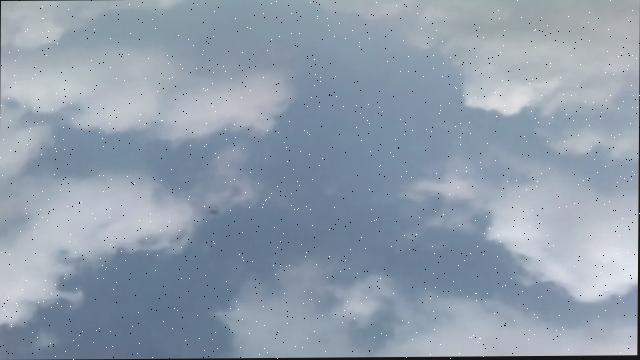drone: (206, 206, 219, 220)
